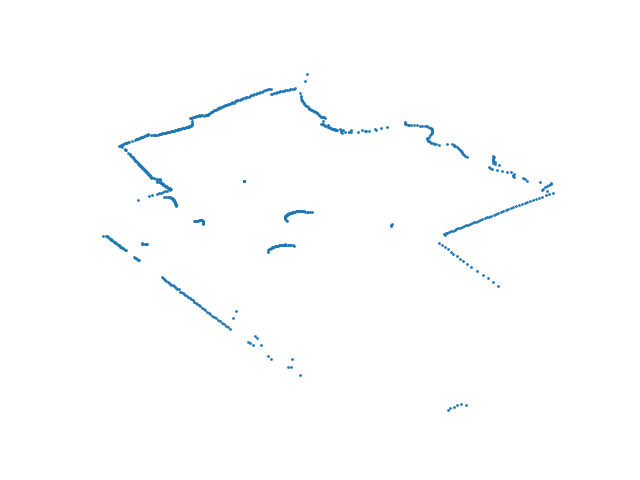person: (264, 208, 316, 255)
